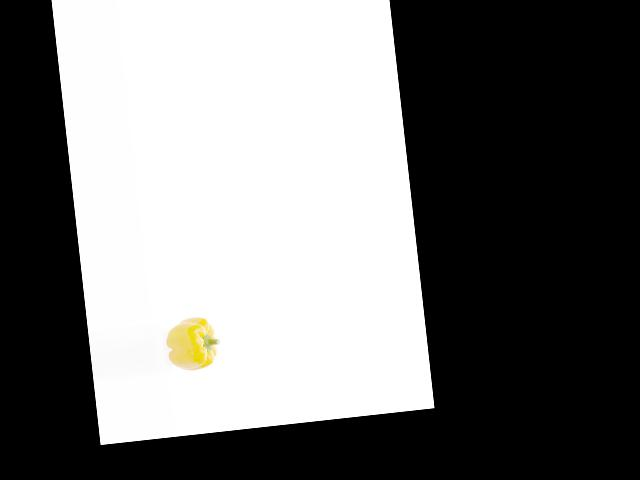bell_pepper: (162, 311, 224, 372)
